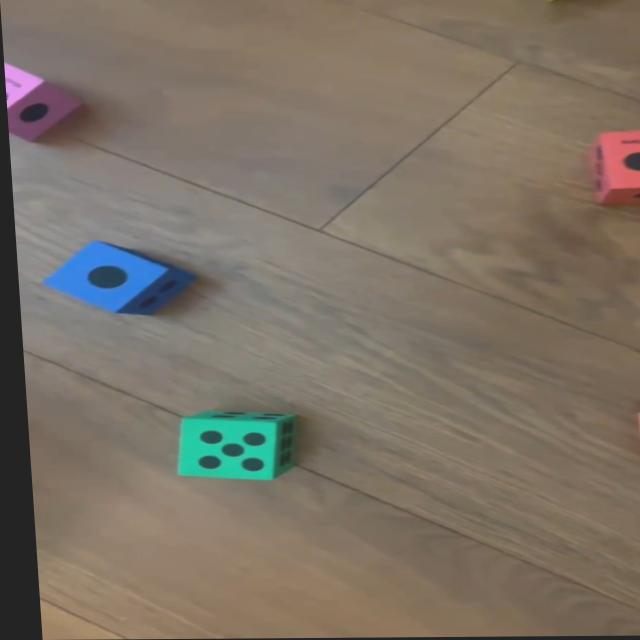cube: (35, 241, 193, 316), (168, 411, 296, 480), (587, 132, 640, 202)
